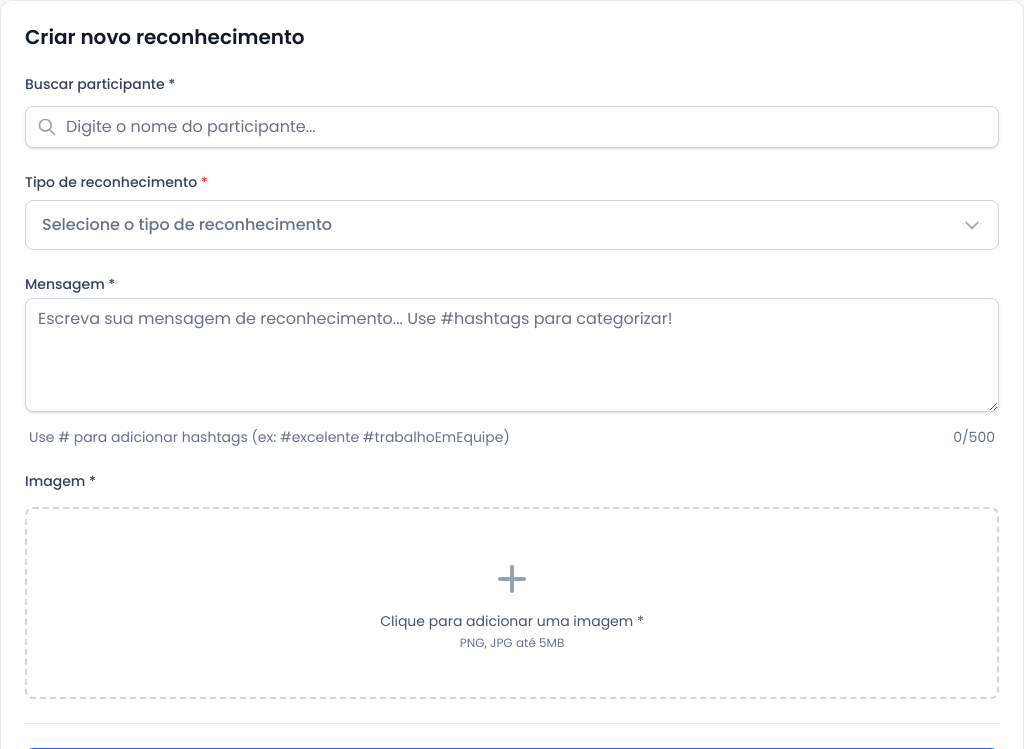
it: RecognitionForm › displays character count for message
Expected: the text "0/500" is shown, [953,427,995,447]
Type some text
In the text box with placeholder "Escreva sua mensagem": coordinates (512, 355) [25,298,999,412], type "Hello world"
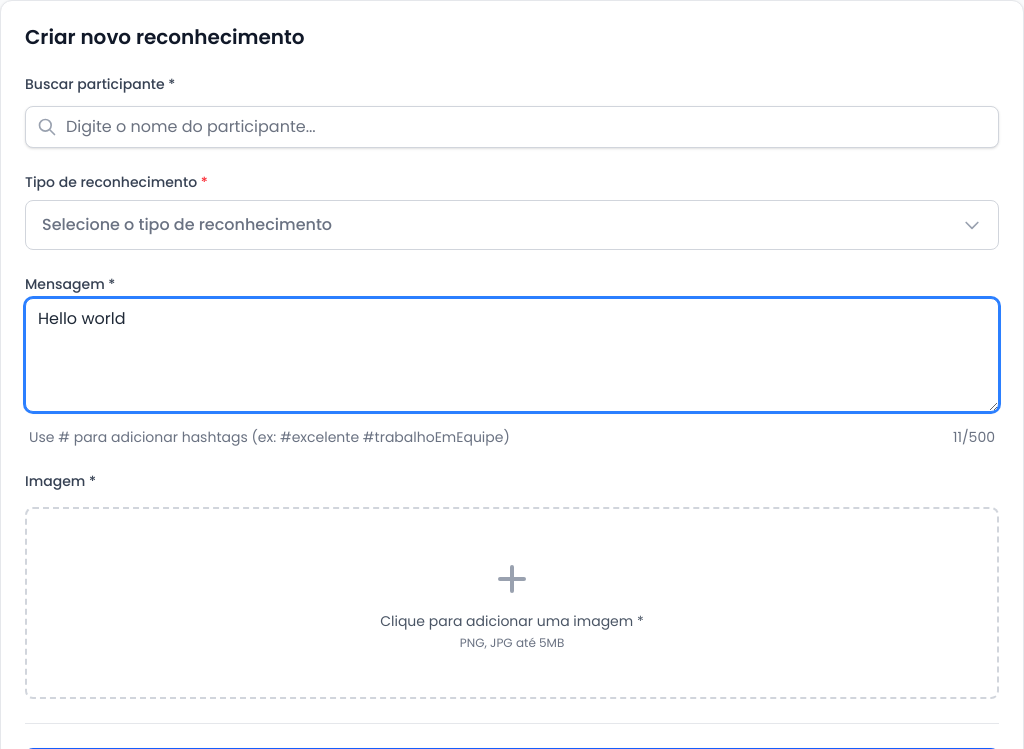
Result: the text "11/500" is shown at [953,427,995,447]
